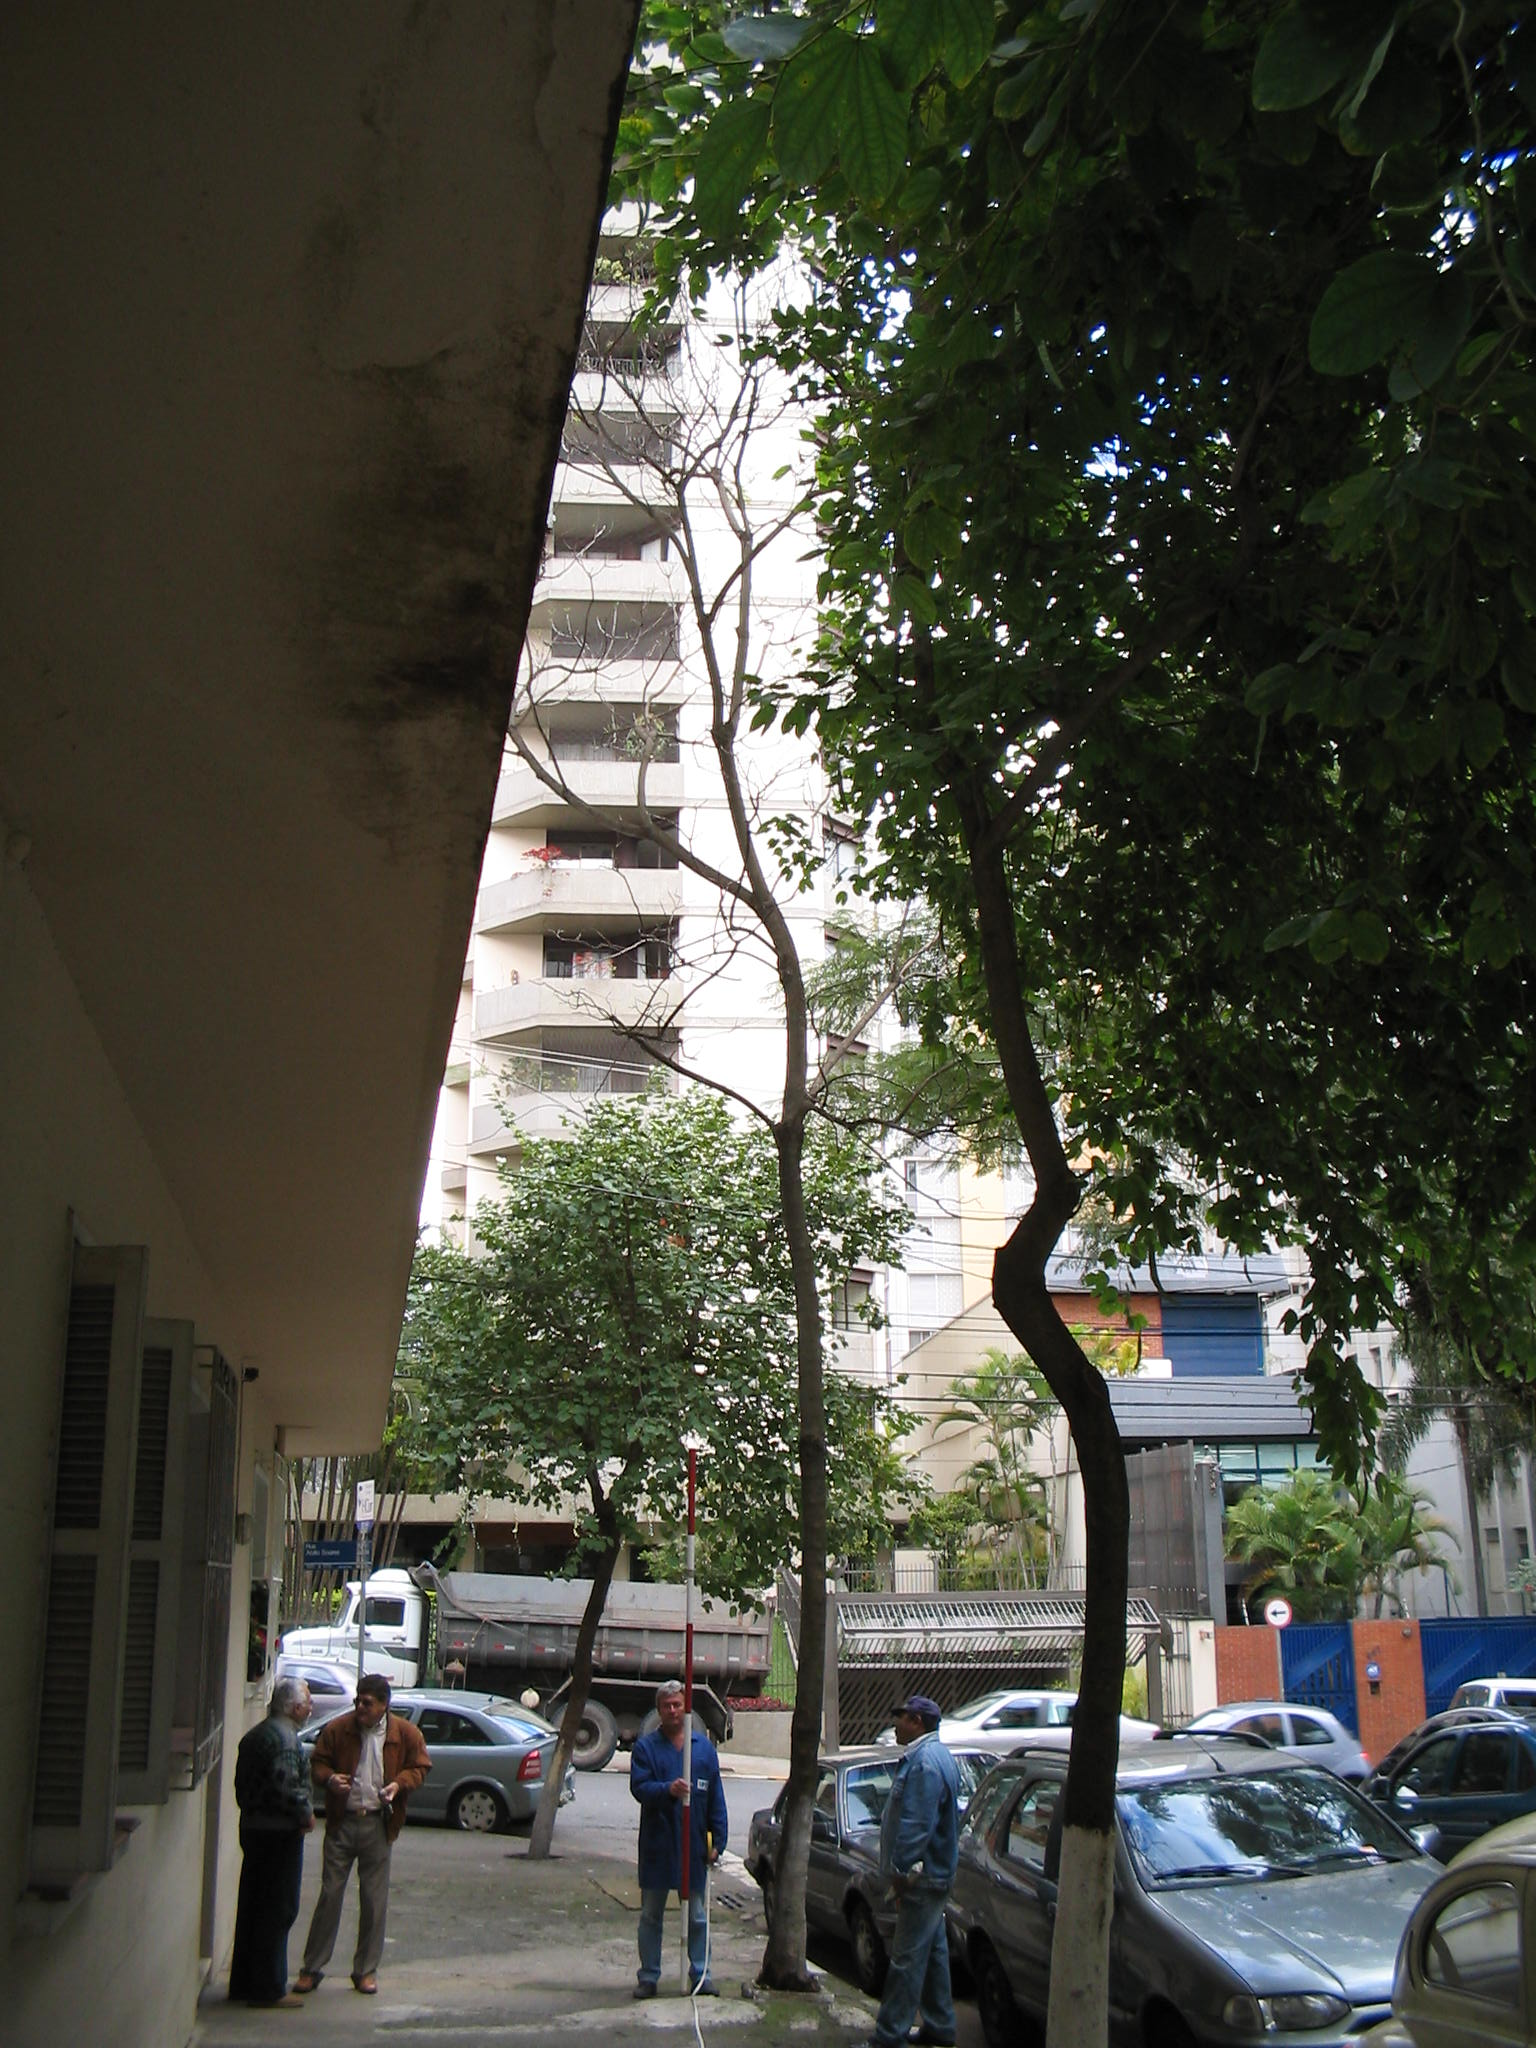crown: (407, 1079, 941, 1603)
stem: (757, 1132, 860, 1996), (523, 1576, 620, 1861)
stick: (673, 1450, 712, 1995)
tree: (507, 250, 975, 1996), (399, 1076, 945, 1863)
